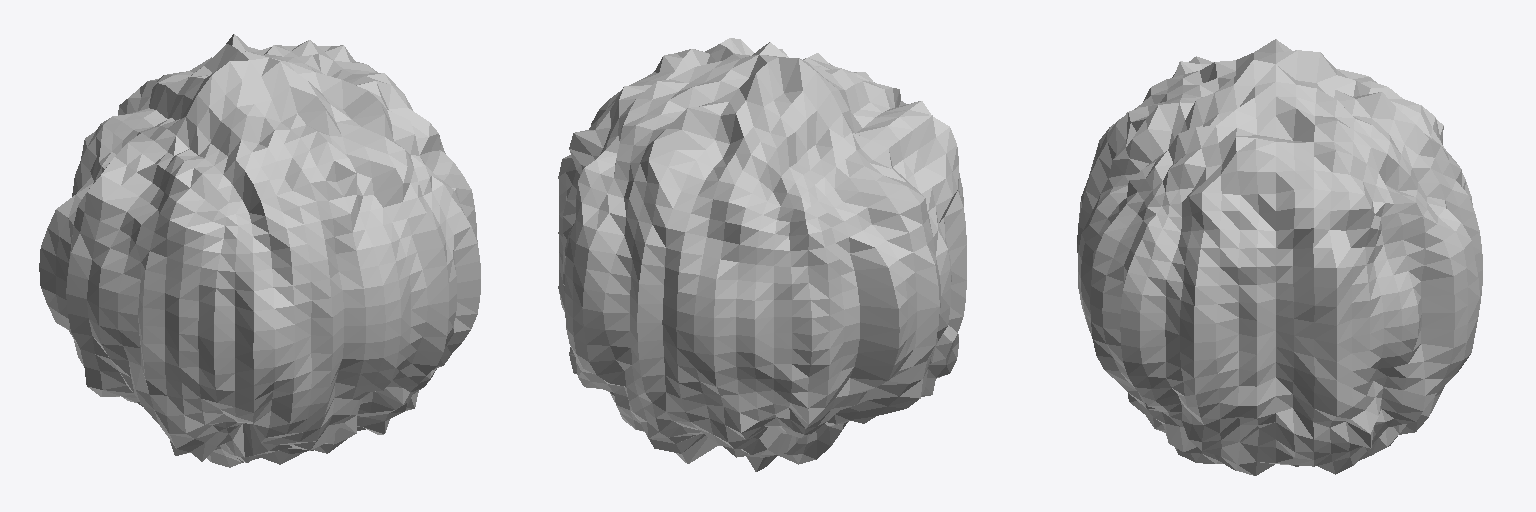
File: asteroid164.obj
3 renders of one model, left to right at view 1: azimuth 30°, elevation 25°; view 2: azimuth 150°, elevation 25°; view 3: azimuth 270°, elevation 25°, orthographic.
Visible parts, largest first — view 1: Cube_Cube.002; view 2: Cube_Cube.002; view 3: Cube_Cube.002.
Part boxes in pixels (left/top/right/bottom): Cube_Cube.002: left=39, top=34, right=480, bottom=467; Cube_Cube.002: left=558, top=38, right=966, bottom=471; Cube_Cube.002: left=1077, top=39, right=1482, bottom=475.
Bounding box in the file's own units: 1.75 × 1.88 × 1.7.